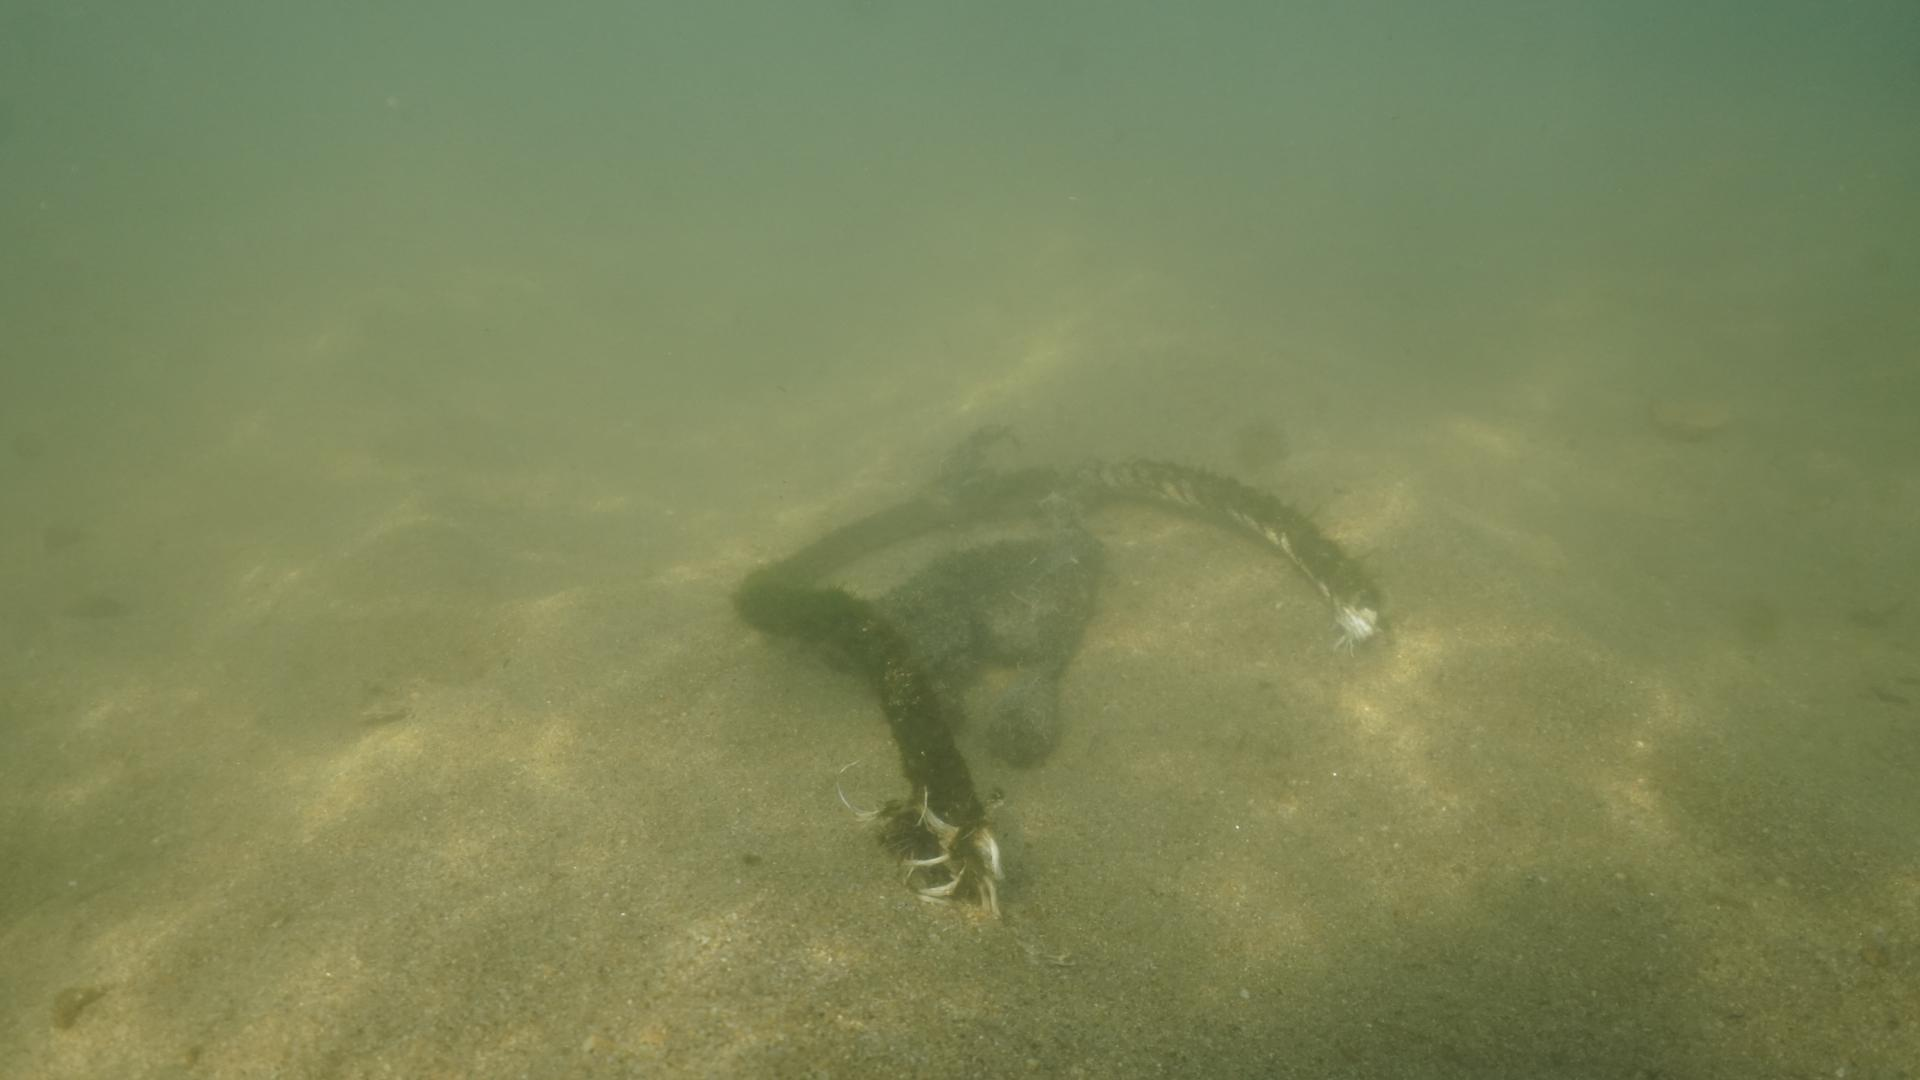rope: (729, 451, 1386, 823)
